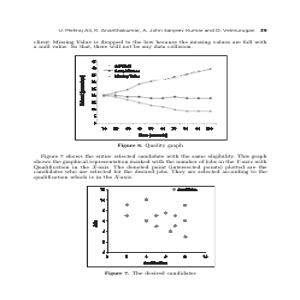diagram: (71, 52, 234, 143), (81, 182, 224, 269)
text: (31, 153, 270, 180), (30, 35, 270, 51)
